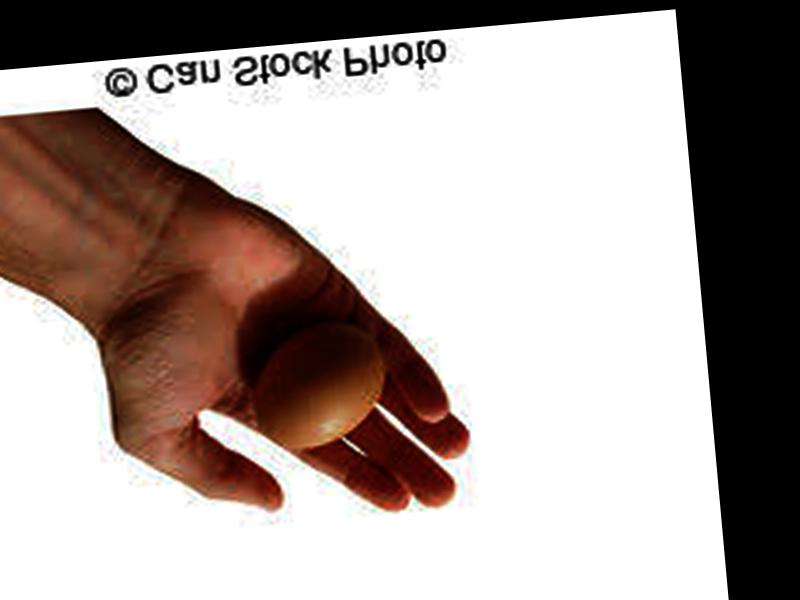Eggs: (253, 319, 393, 447)
